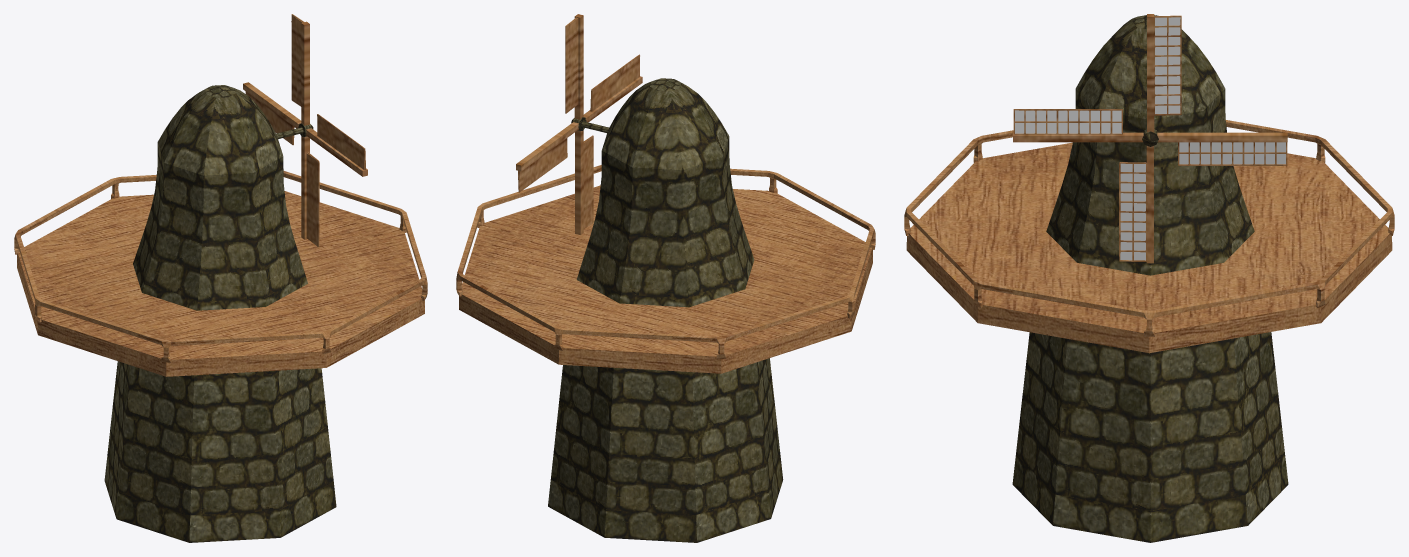
The model's file is Moinho.fbx.
The picture shows the model from 3 angles, left to right: view 1: azimuth 30°, elevation 25°; view 2: azimuth 150°, elevation 25°; view 3: azimuth 270°, elevation 25°; orthographic projection. The views are drawn at different scales.
Visible parts, largest first — view 1: Sacada, CabineInferior, CabineSuperior, HelicesMoinho, Suporte; view 2: Sacada, CabineInferior, CabineSuperior, HelicesMoinho, Suporte; view 3: Sacada, CabineInferior, CabineSuperior, HelicesMoinho.001, HelicesMoinho, Suporte.
Part boxes in pixels (bbox=[...]): Sacada: bbox=[17, 191, 424, 376]; CabineInferior: bbox=[104, 361, 336, 542]; CabineSuperior: bbox=[133, 85, 307, 310]; HelicesMoinho: bbox=[243, 14, 367, 247]; Suporte: bbox=[14, 171, 427, 362]; Sacada: bbox=[459, 185, 872, 373]; CabineInferior: bbox=[548, 358, 783, 542]; CabineSuperior: bbox=[576, 78, 754, 307]; HelicesMoinho: bbox=[516, 14, 642, 234]; Suporte: bbox=[456, 165, 875, 359]; Sacada: bbox=[906, 142, 1392, 353]; CabineInferior: bbox=[1012, 332, 1288, 542]; CabineSuperior: bbox=[1046, 15, 1254, 275]; HelicesMoinho.001: bbox=[1015, 17, 1285, 260]; HelicesMoinho: bbox=[1013, 14, 1287, 263]; Suporte: bbox=[904, 120, 1394, 336].
Size of the model in its own units: 656 by 763 by 656.
3 materials, 2 textured.
